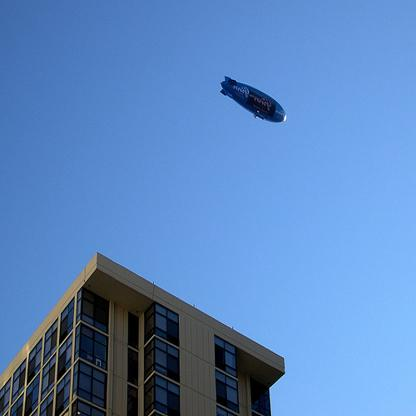Airship: (217, 74, 293, 135)
